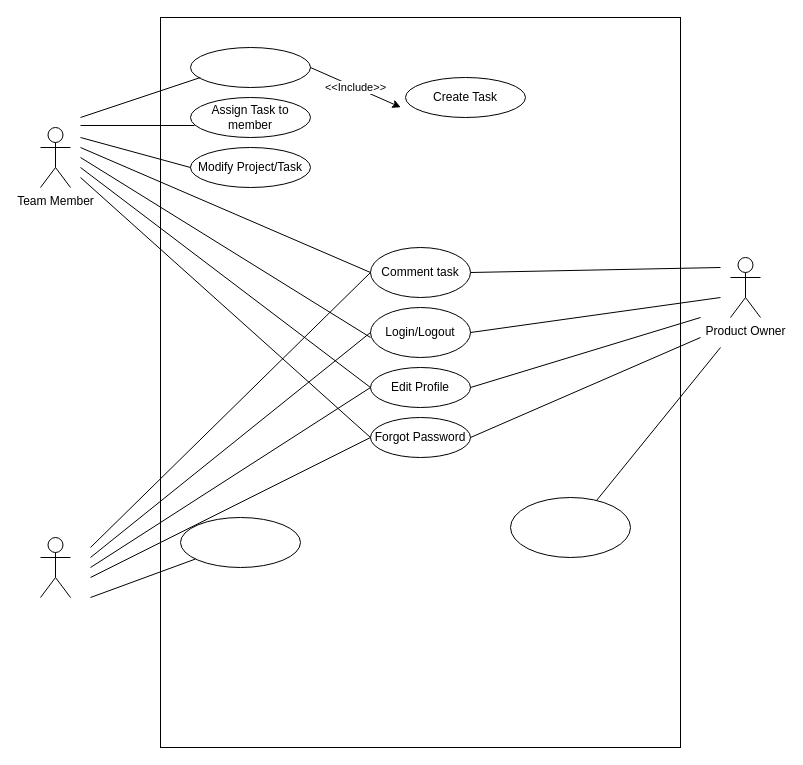
Image size: 803x765. Some labels were removed from this diagram. Each missing label, with the centre of its shape:
"Change task mode" belongs at point (240, 542).
"Create Project" belongs at point (250, 67).
"Edit Delete team member" belongs at point (570, 527).
"Team Leader" belongs at point (55, 567).
